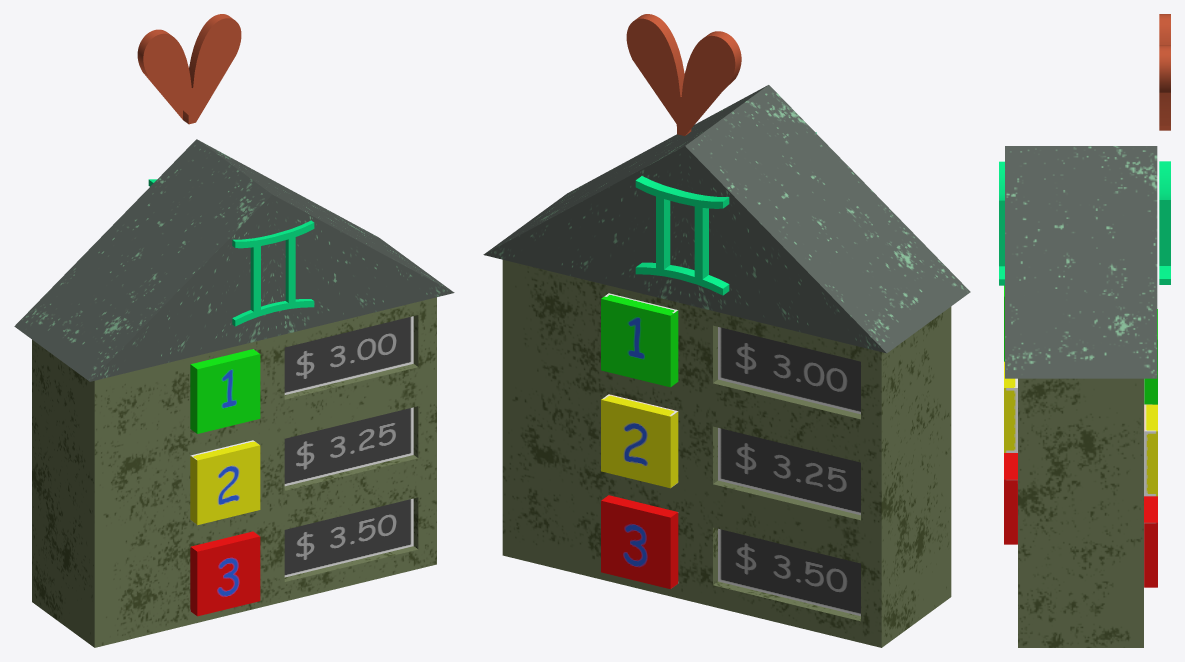
File: gas_station_price_sign_thing.fbx
3 renders of one model, left to right at view 1: azimuth 30°, elevation 25°; view 2: azimuth 150°, elevation 25°; view 3: azimuth 270°, elevation 25°, orthographic. The views are drawn at different scales.
Parts seen in each view (by area): view 1: Cube, ^, MoText; view 2: Cube, ^, MoText_1; view 3: Cube, MoText_1, ^, MoText.
Boxes of the visible parts, x1,y1,x2,y2 form: Cube: (14, 139, 454, 647); ^: (137, 14, 241, 124); MoText: (232, 220, 314, 326); Cube: (483, 85, 970, 647); ^: (626, 14, 741, 135); MoText_1: (635, 176, 729, 295); Cube: (1004, 146, 1157, 647); MoText_1: (1159, 161, 1170, 284); ^: (1159, 14, 1170, 130); MoText: (999, 161, 1004, 285).
Bounding box in the file's own units: 351 × 486 × 143.
3 materials, 1 textured.
